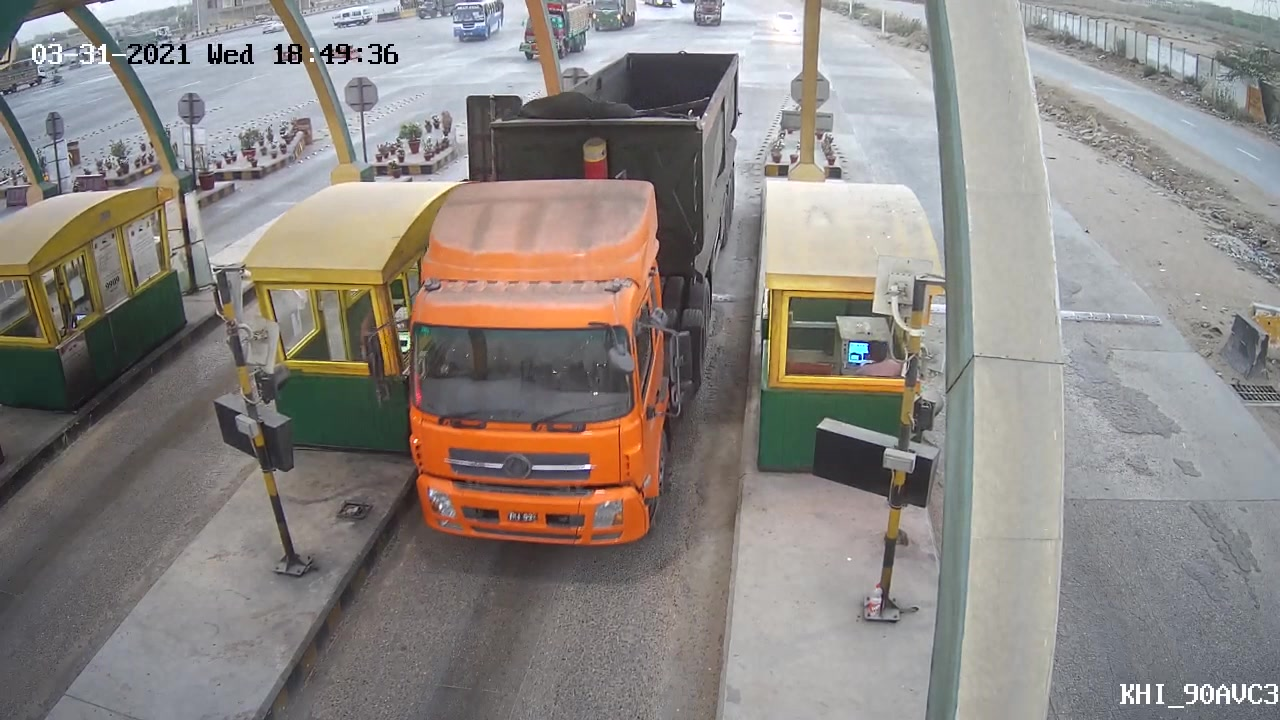F5: (359, 56, 748, 546)
